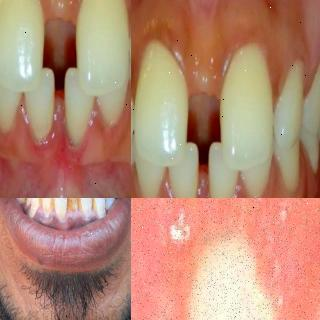Gum Swelling: (131, 198, 320, 320)
maligned: (52, 198, 68, 224), (100, 198, 116, 210)
stains: (41, 198, 57, 218), (78, 198, 94, 215), (65, 198, 81, 213), (93, 198, 105, 215), (34, 198, 46, 206)
